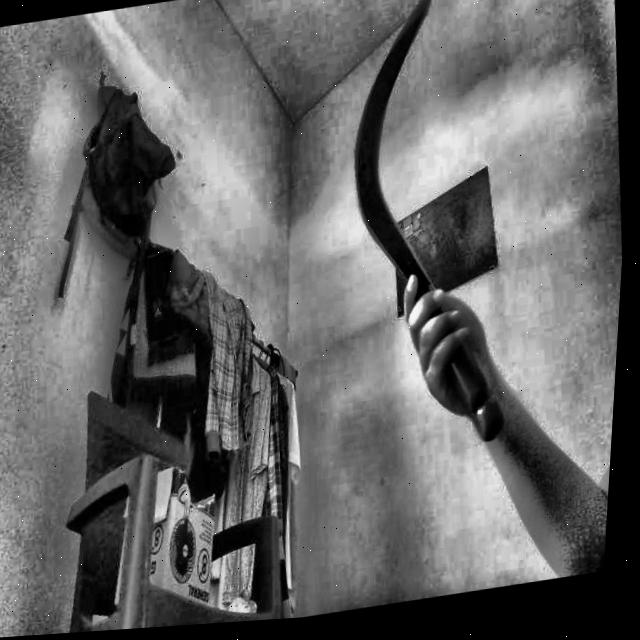celurit: (346, 0, 520, 453)
